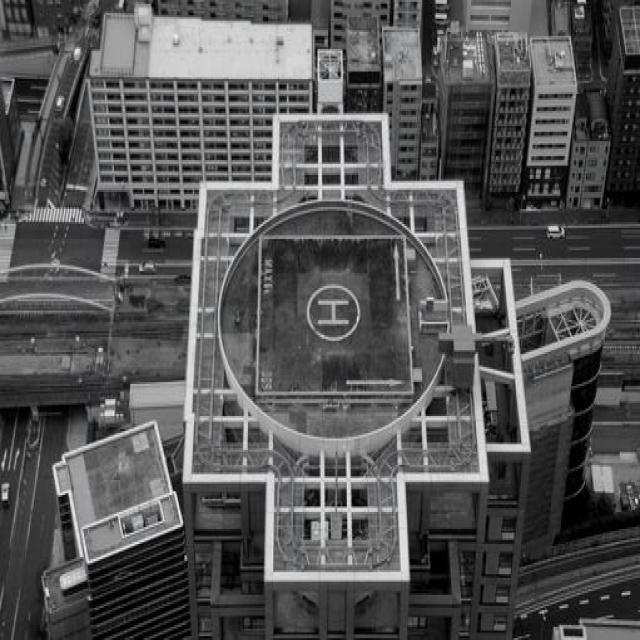helipad: (303, 276, 361, 341)
